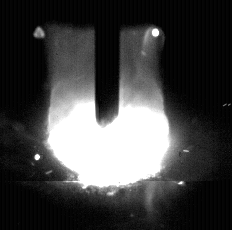arame: (96, 0, 121, 127)
poca: (48, 0, 171, 230)
